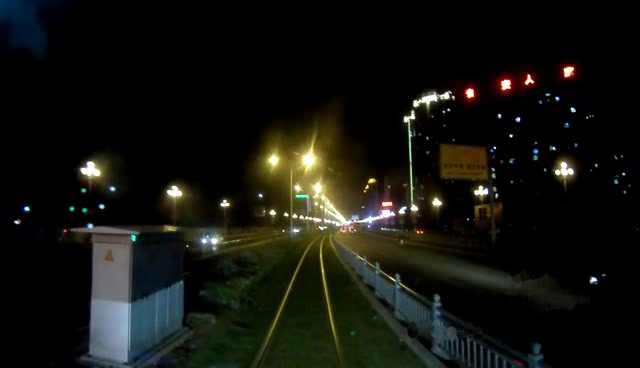car: (199, 231, 229, 247)
